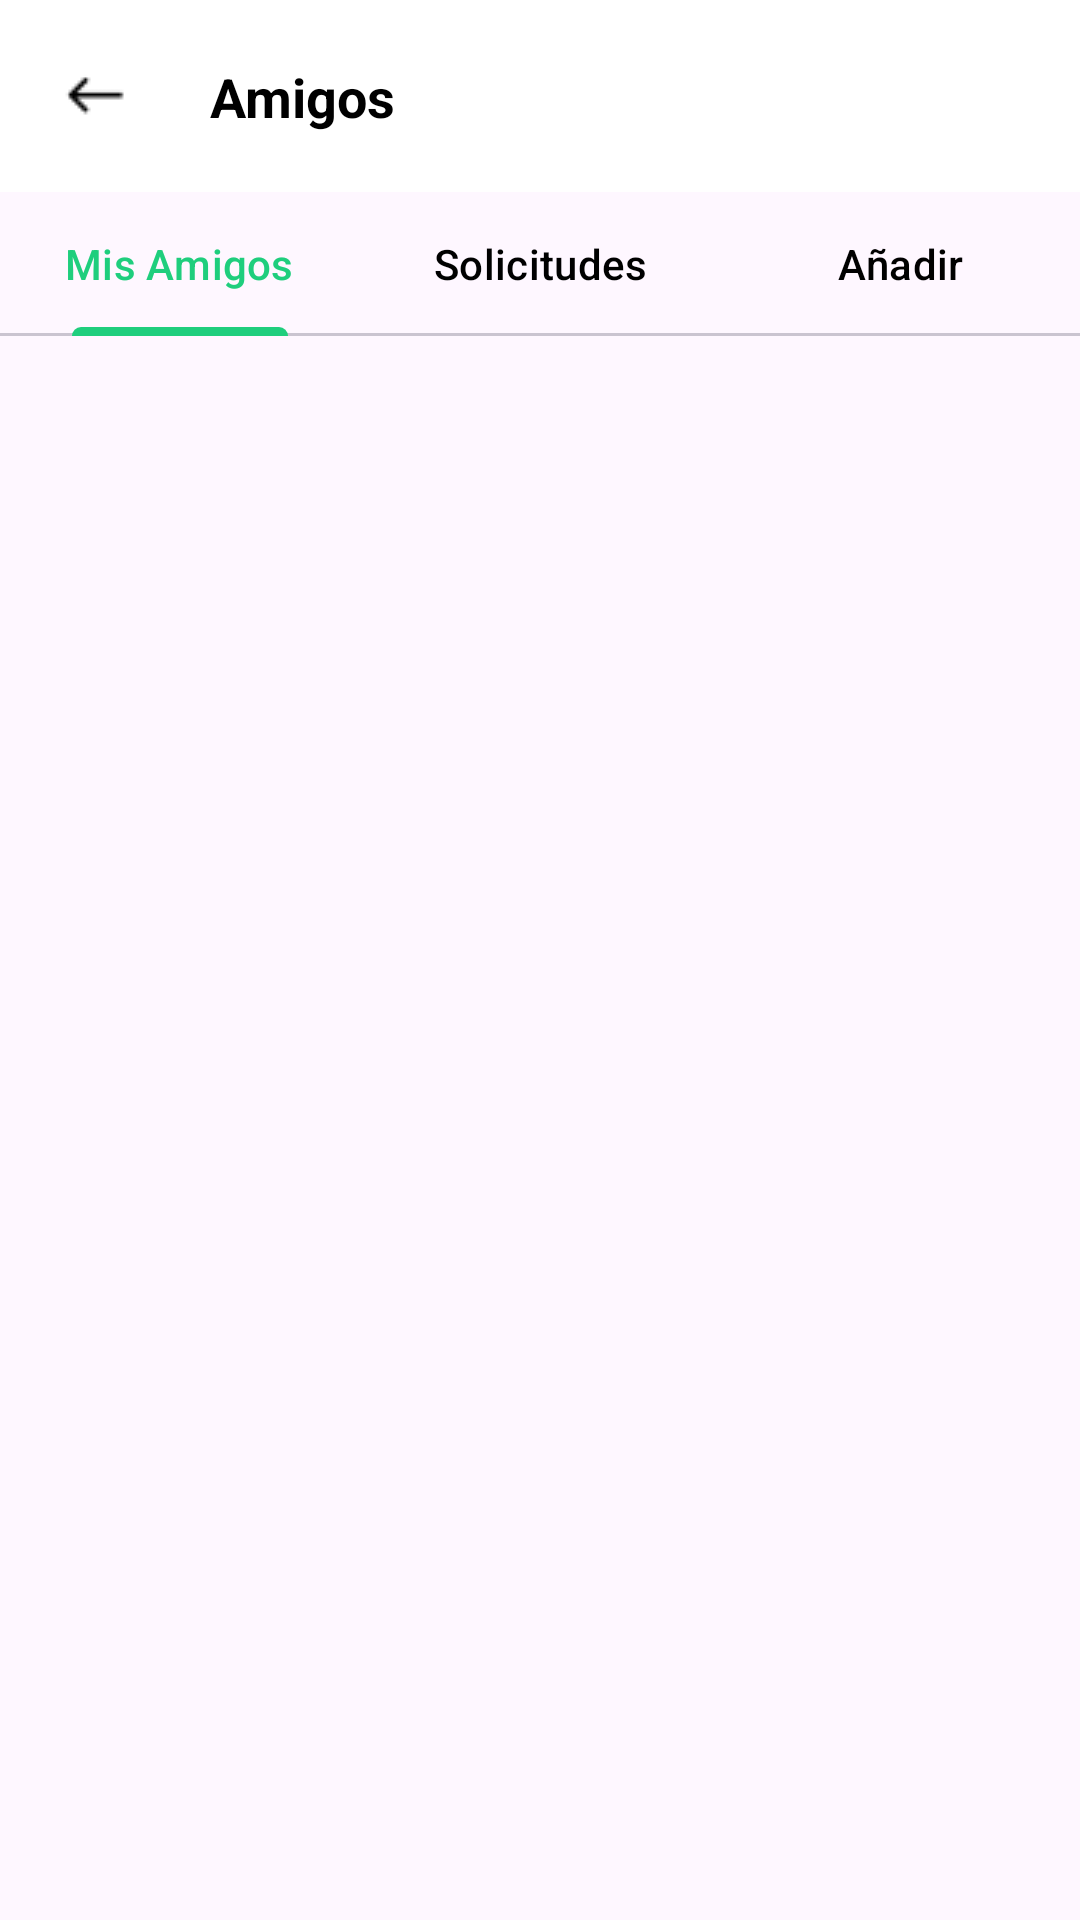

Icons on this 1080w x 1920h Android screen, each with the point to tap as (x=x, y=y):
flecha: (x=96, y=96)
